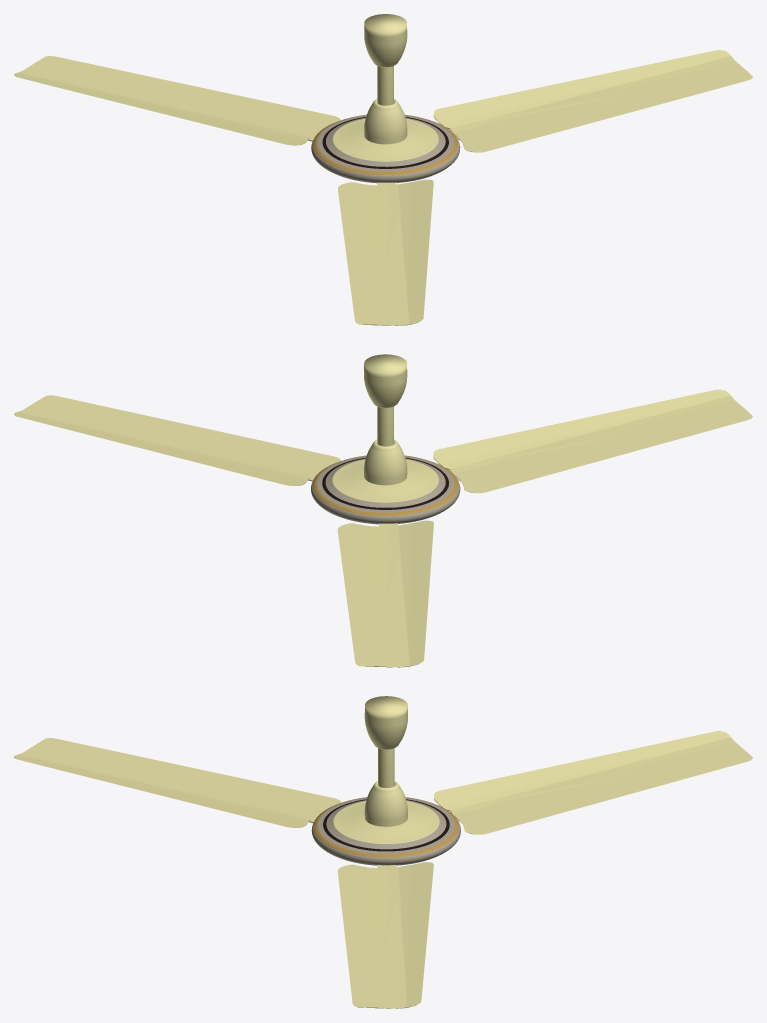
The model's file is Fan1.fbx.
The picture shows the model from 3 angles, top to bottom: view 1: azimuth 30°, elevation 25°; view 2: azimuth 150°, elevation 25°; view 3: azimuth 270°, elevation 25°; orthographic projection.
Parts seen in each view (by area): view 1: Plane.007, Plane.009, Plane.008, Sphere.002, Cone.004, Cone.005, Cylinder.002; view 2: Plane.009, Plane.008, Plane.007, Sphere.002, Cone.004, Cone.005, Cylinder.002; view 3: Plane.008, Plane.007, Plane.009, Sphere.002, Cone.004, Cone.005, Cylinder.002.
Boxes of the visible parts, x1,y1,x2,y2 form: Plane.007: (433,50,752,152); Plane.009: (338,179,433,325); Plane.008: (14,56,340,145); Sphere.002: (311,114,460,183); Cone.004: (364,14,407,67); Cone.005: (364,99,407,144); Cylinder.002: (377,66,393,105); Plane.009: (433,389,752,493); Plane.008: (337,520,433,667); Plane.007: (14,395,340,485); Sphere.002: (311,455,460,524); Cone.004: (364,354,407,407); Cone.005: (364,439,407,485); Cylinder.002: (377,406,393,446); Plane.008: (434,731,752,834); Plane.007: (337,862,433,1008); Plane.009: (14,738,341,827); Sphere.002: (311,797,460,865); Cone.004: (364,696,407,749); Cone.005: (364,781,407,826); Cylinder.002: (378,748,394,787).
Size of the model in its own units: 856 by 209 by 977.
